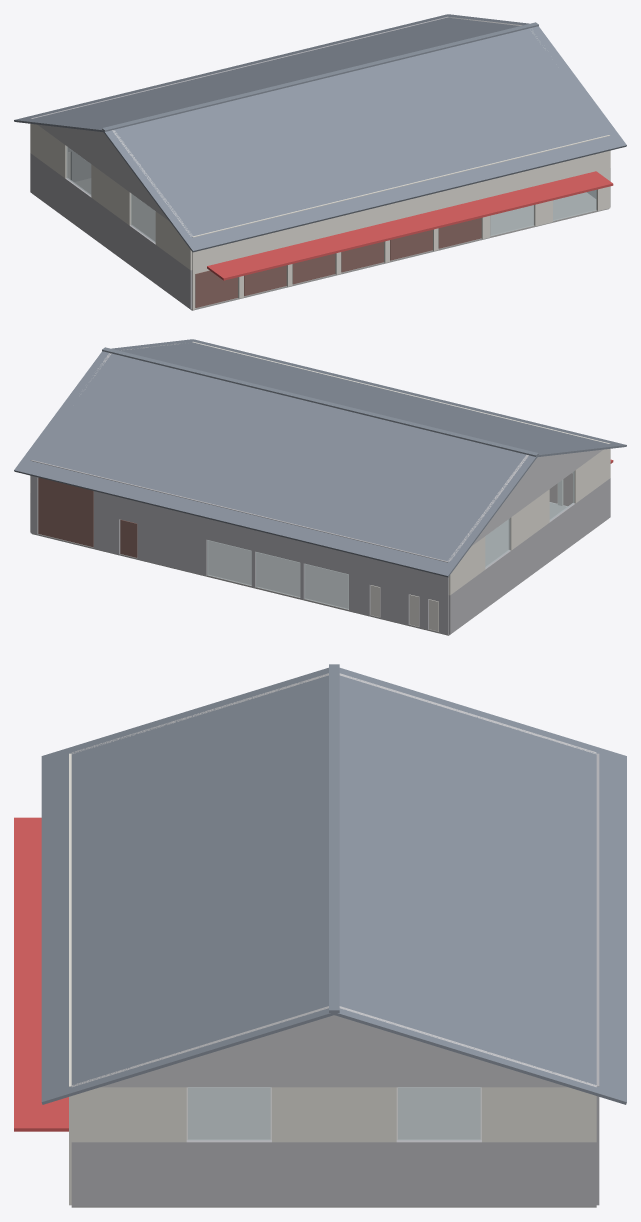
Rendered from KopdesBuilding.fbx.
3 views of the same model, one above another, from view 1: azimuth 30°, elevation 25°; view 2: azimuth 150°, elevation 25°; view 3: azimuth 270°, elevation 25° (orthographic). The views are drawn at different scales.
Visible parts, largest first — view 1: Kopdes_Roof_Front, Kopdes_Roof_Back, Kopdes_Front_Canopy, Kopdes_Left_Pedestal1, Kopdes_Floor, Kopdes_Left_Gable, Kopdes_Roof_Ridge_Cap, Kopdes_Left_Pedestal2, Kopdes_Left_Pier1, Kopdes_Left_Pier2, Kopdes_Front_Shutter1, Kopdes_Left_Pier0 (+20 smaller); view 2: Kopdes_Roof_Back, Kopdes_Roof_Front, Kopdes_Floor, Kopdes_Left_Pedestal1, Kopdes_Back_Pier6, Kopdes_Back_WarehouseDoor, Kopdes_Left_Gable, Kopdes_Roof_Ridge_Cap, Kopdes_Left_Pedestal2, Kopdes_Back_Pier2, Kopdes_Back_Pier7, Kopdes_Back_ServiceDoor1 (+16 smaller); view 3: Kopdes_Roof_Front, Kopdes_Roof_Back, Kopdes_Right_Pedestal1, Kopdes_Right_Gable, Kopdes_Floor, Kopdes_Front_Canopy, Kopdes_Right_Pedestal2, Kopdes_Right_Pier1, Kopdes_Right_Pier0, Kopdes_Right_Pier2, Kopdes_Right_Window1, Kopdes_Right_Window2 (+2 smaller).
Part boxes in pixels (left/top/right/bottom): Kopdes_Roof_Front: left=103, top=26, right=626, bottom=252; Kopdes_Roof_Back: left=14, top=14, right=529, bottom=132; Kopdes_Front_Canopy: left=207, top=171, right=613, bottom=280; Kopdes_Left_Pedestal1: left=30, top=163, right=192, bottom=309; Kopdes_Floor: left=74, top=178, right=609, bottom=310; Kopdes_Left_Gable: left=38, top=124, right=192, bottom=236; Kopdes_Roof_Ridge_Cap: left=102, top=22, right=538, bottom=131; Kopdes_Left_Pedestal2: left=30, top=153, right=192, bottom=280; Kopdes_Left_Pier1: left=91, top=164, right=131, bottom=225; Kopdes_Left_Pier2: left=30, top=123, right=67, bottom=178; Kopdes_Front_Shutter1: left=195, top=270, right=237, bottom=307; Kopdes_Left_Pier0: left=155, top=211, right=192, bottom=270; Kopdes_Roof_Back: left=14, top=351, right=537, bottom=577; Kopdes_Roof_Front: left=111, top=339, right=626, bottom=456; Kopdes_Floor: left=31, top=502, right=566, bottom=635; Kopdes_Left_Pedestal1: left=448, top=488, right=610, bottom=634; Kopdes_Back_Pier6: left=137, top=486, right=207, bottom=575; Kopdes_Back_WarehouseDoor: left=38, top=477, right=93, bottom=547; Kopdes_Left_Gable: left=448, top=449, right=602, bottom=561; Kopdes_Roof_Ridge_Cap: left=102, top=347, right=538, bottom=456; Kopdes_Left_Pedestal2: left=448, top=478, right=610, bottom=605; Kopdes_Back_Pier2: left=380, top=545, right=409, bottom=625; Kopdes_Back_Pier7: left=93, top=475, right=120, bottom=554; Kopdes_Back_ServiceDoor1: left=304, top=564, right=348, bottom=609; Kopdes_Roof_Front: left=41, top=667, right=334, bottom=1104; Kopdes_Roof_Back: left=333, top=668, right=626, bottom=1104; Kopdes_Right_Pedestal1: left=71, top=1159, right=596, bottom=1206; Kopdes_Right_Gable: left=72, top=1006, right=596, bottom=1087; Kopdes_Floor: left=71, top=1087, right=596, bottom=1207; Kopdes_Front_Canopy: left=14, top=817, right=68, bottom=1131; Kopdes_Right_Pedestal2: left=71, top=1140, right=596, bottom=1158; Kopdes_Right_Pier1: left=272, top=1087, right=396, bottom=1142; Kopdes_Right_Pier0: left=71, top=1087, right=186, bottom=1142; Kopdes_Right_Pier2: left=482, top=1087, right=596, bottom=1142; Kopdes_Right_Window1: left=188, top=1087, right=270, bottom=1140; Kopdes_Right_Window2: left=398, top=1087, right=480, bottom=1140.
Bounding box in the file's own units: 3120 × 857 × 2335.
